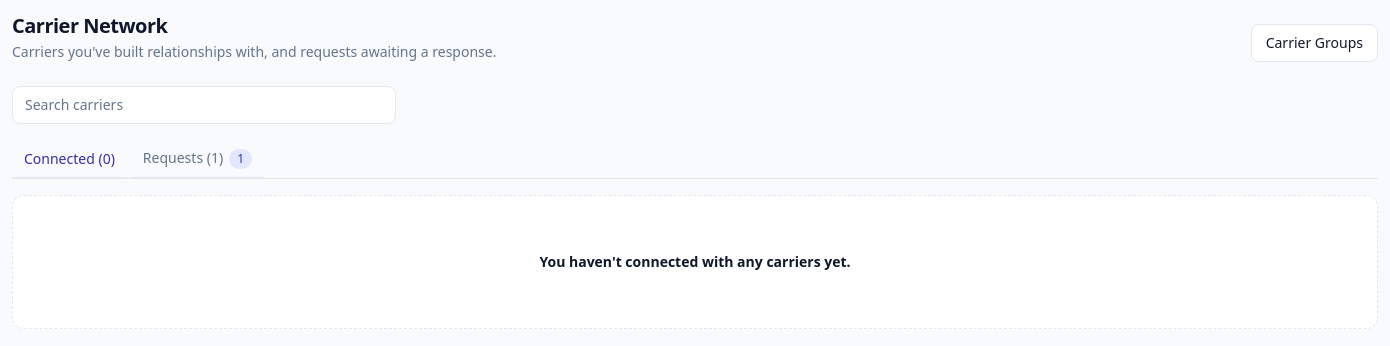
Test: NetworkWorkspace › renders a PENDING connection under Requests, flagged when awaiting this viewer's response
The width and height of the screenshot is (1390, 346).
Click the tab "Requests (1) 1". click: point(198, 160)
box: [131, 140, 264, 179]
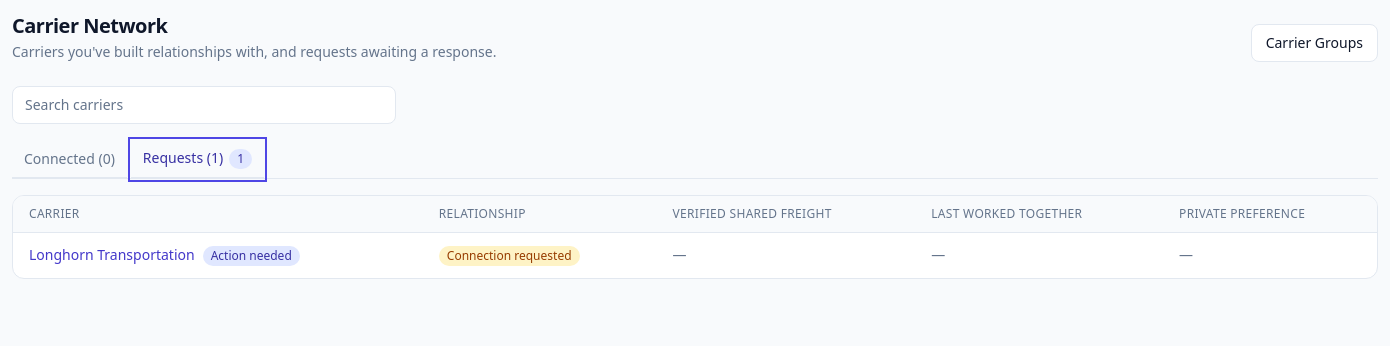
Result: the link "Longhorn Transportation" is shown at [29, 245, 195, 264]
Result: the text "Action needed" is shown at [203, 246, 300, 266]
